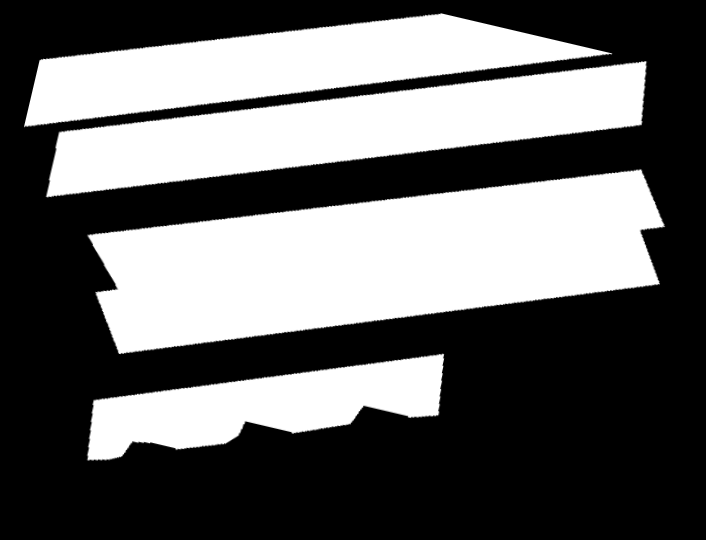parkingspot: (88, 169, 665, 354), (46, 61, 647, 197), (24, 13, 612, 127), (87, 354, 444, 461)
